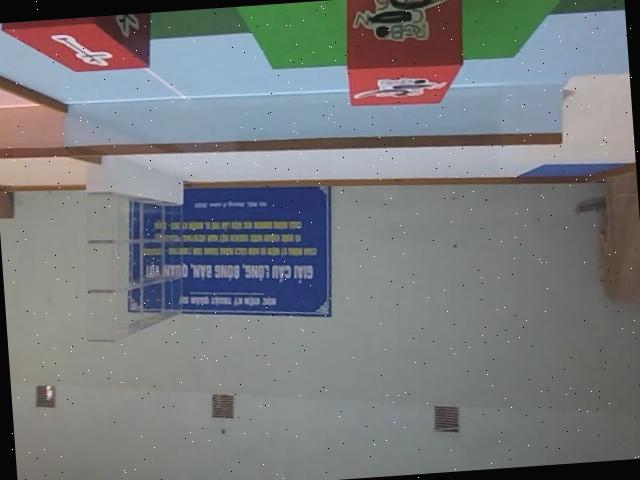R1: (343, 0, 467, 109)
R2 Real: (0, 11, 154, 77)
